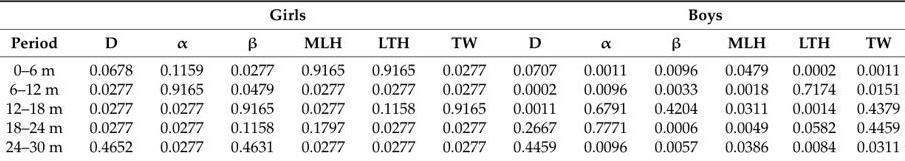table: (5, 4, 899, 156)
table column: (145, 4, 216, 156), (216, 4, 287, 156), (357, 4, 428, 156), (428, 4, 499, 156), (569, 4, 640, 156), (5, 4, 75, 156), (75, 4, 145, 156), (287, 4, 357, 156), (499, 4, 569, 156), (640, 4, 710, 156), (710, 4, 779, 156), (779, 4, 845, 156), (845, 4, 899, 156)
table column header: (5, 4, 899, 55)
table row: (5, 28, 899, 55), (5, 4, 899, 28), (5, 55, 899, 79), (5, 136, 899, 156), (5, 79, 899, 98), (5, 98, 899, 117), (5, 117, 899, 136)
table spanning cell: (75, 4, 499, 28), (499, 4, 899, 28), (5, 4, 75, 55)
